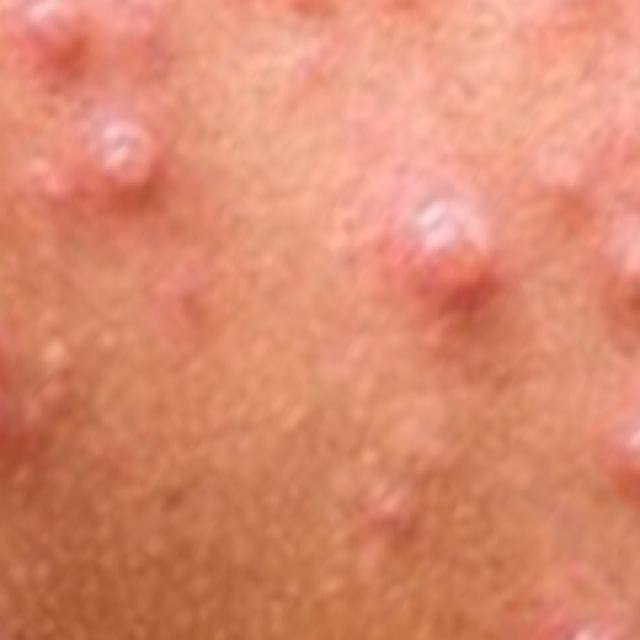acne: (308, 441, 476, 585), (361, 190, 514, 338), (532, 139, 640, 345), (0, 116, 199, 226), (0, 300, 87, 528), (0, 0, 148, 84), (507, 589, 639, 640), (576, 398, 640, 503)
